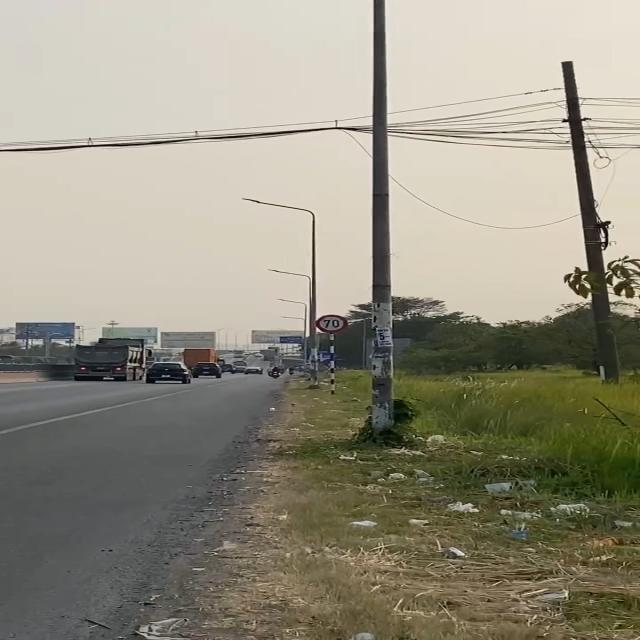127-toc-do-toi-da-70: (314, 314, 349, 334)
